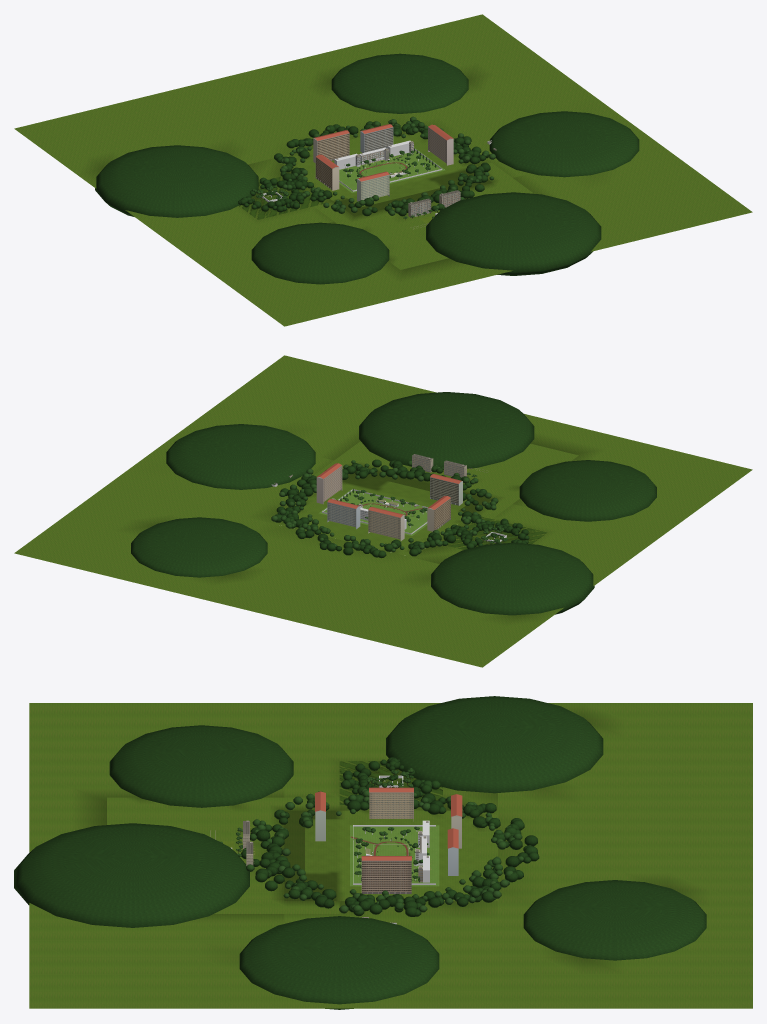
The model's file is camp.glb.
3 renders of one model, top to bottom at view 1: azimuth 30°, elevation 25°; view 2: azimuth 150°, elevation 25°; view 3: azimuth 270°, elevation 25°, orthographic. The views are drawn at different scales.
Parts seen in each view (by area): view 1: Parade_Static, CC_Static, NOW_Blocks, Night_Static, NOW_Lawn; view 2: Parade_Static, CC_Static, NOW_Blocks, Night_Static, NOW_Lawn; view 3: Parade_Static, CC_Static, NOW_Blocks, NOW_Lawn, Night_Static.
Boxes of the visible parts, x1,y1,x2,y2 form: Parade_Static: (14,14,752,326); CC_Static: (314,163,533,269); NOW_Blocks: (313,124,453,201); Night_Static: (238,176,323,219); NOW_Lawn: (339,147,445,192); Parade_Static: (14,355,752,667); CC_Static: (314,441,578,518); NOW_Blocks: (316,463,462,540); Night_Static: (447,516,547,549); NOW_Lawn: (319,489,427,535); Parade_Static: (14,696,752,1009); CC_Static: (107,797,339,913); NOW_Blocks: (315,787,462,893); NOW_Lawn: (350,825,439,886); Night_Static: (339,757,442,804).
Bounding box in the file's own units: 850 × 77.4 × 858.
Materials: 8 (5 with a texture image).
